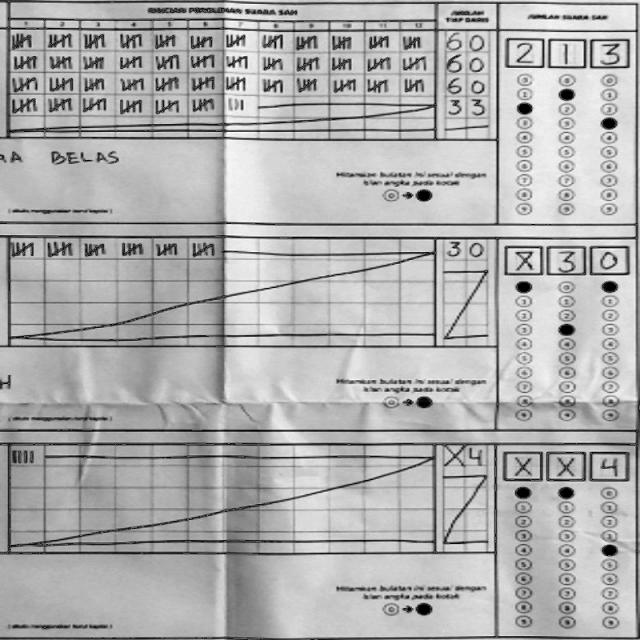Suara: (502, 447, 633, 486), (502, 34, 632, 72), (502, 240, 632, 278)
